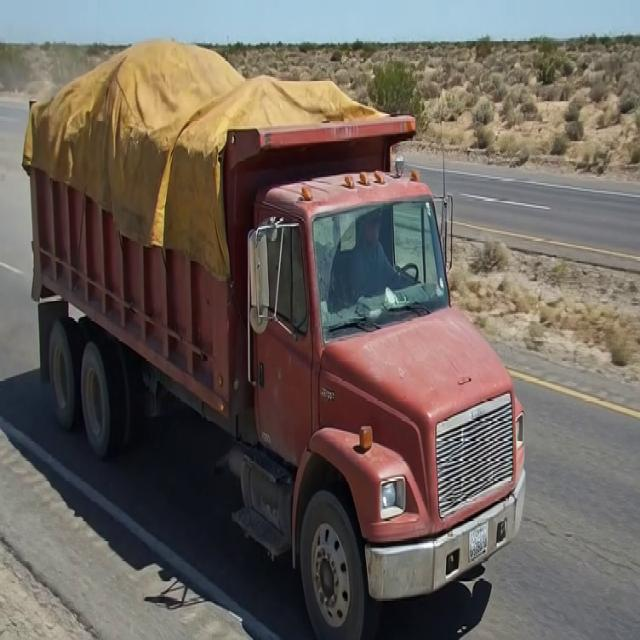Box: (21, 42, 418, 165)
Truck: (18, 37, 527, 632)
